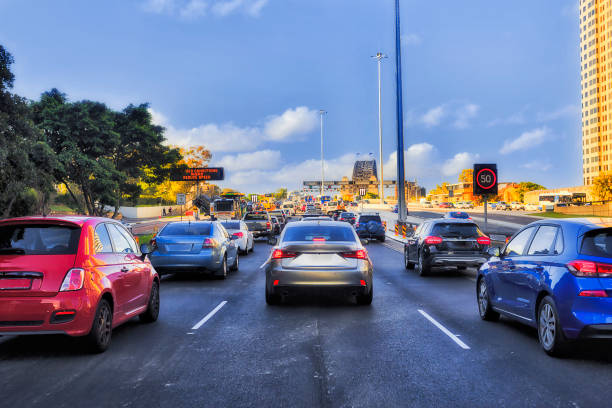car: (1, 215, 162, 354), (481, 216, 612, 347), (266, 221, 373, 306), (150, 221, 237, 273), (407, 222, 490, 273), (246, 208, 273, 237), (355, 214, 385, 240), (228, 221, 254, 248)
